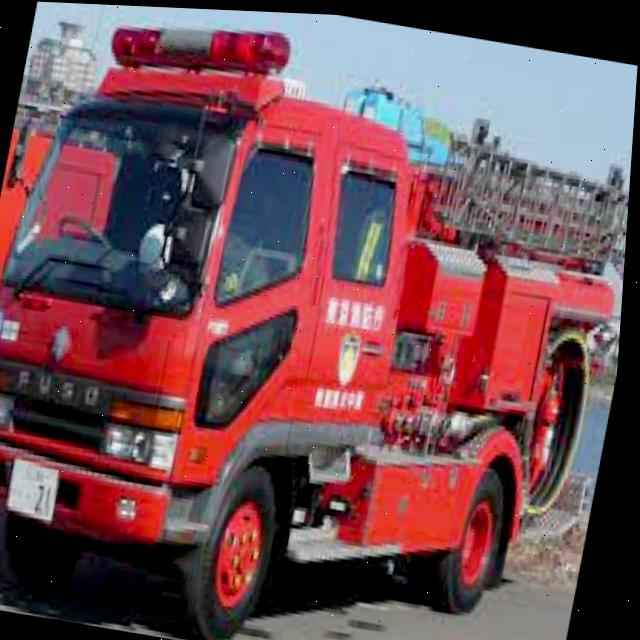emergency: (0, 43, 637, 640)
